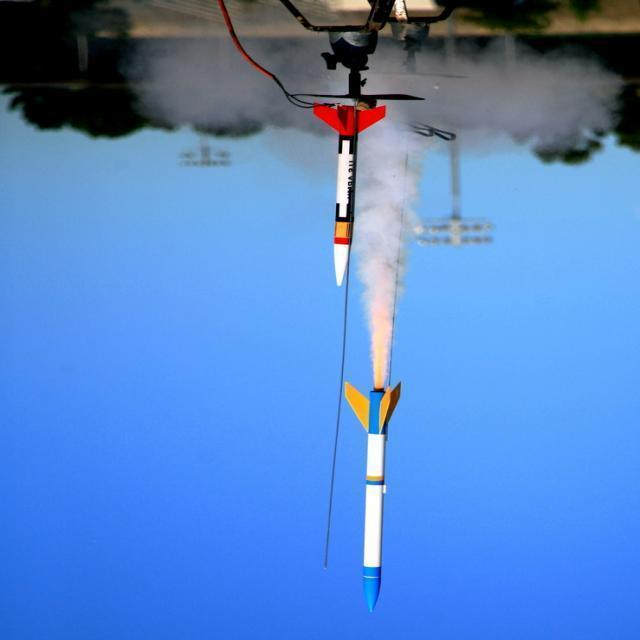missile: (338, 378, 408, 616), (309, 98, 388, 286)
